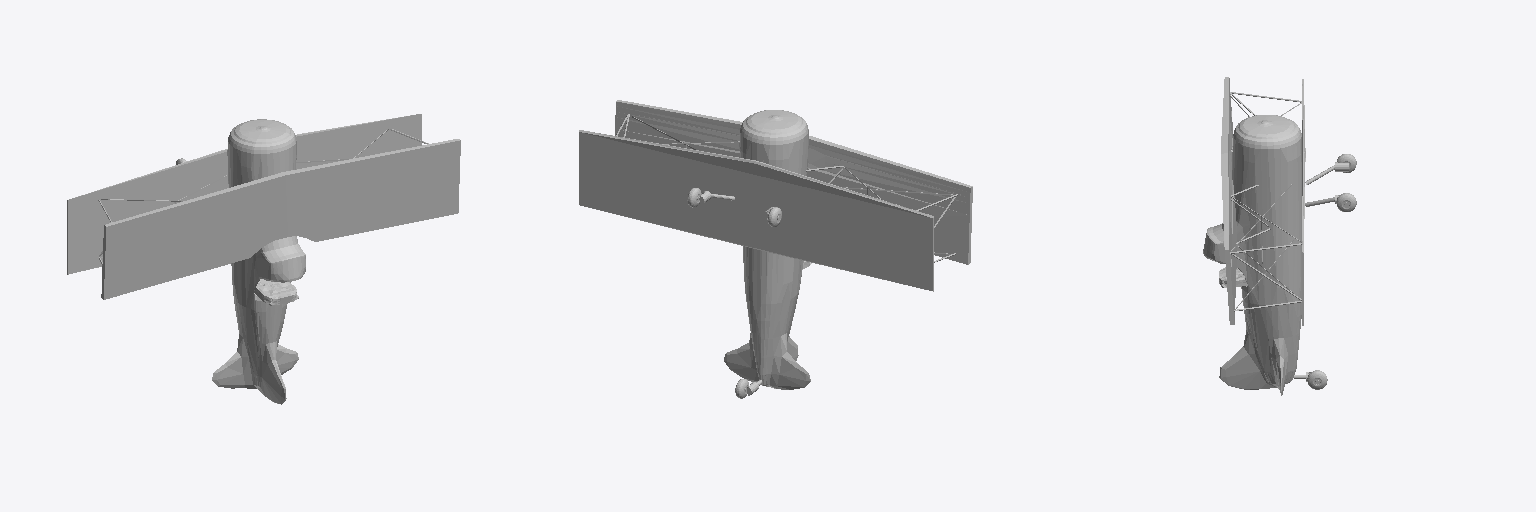
The model's file is AirPlane.obj.
3 renders of one model, left to right at view 1: azimuth 30°, elevation 25°; view 2: azimuth 150°, elevation 25°; view 3: azimuth 270°, elevation 25°, orthographic.
Visible parts, largest first — view 1: AirPlane; view 2: AirPlane; view 3: AirPlane.
Part boxes in pixels (x1,y1,x2,y2): AirPlane: (67,114,460,404); AirPlane: (579,100,972,398); AirPlane: (1203,77,1356,395).
Size of the model in its own units: 4.6 by 3.32 by 1.72.